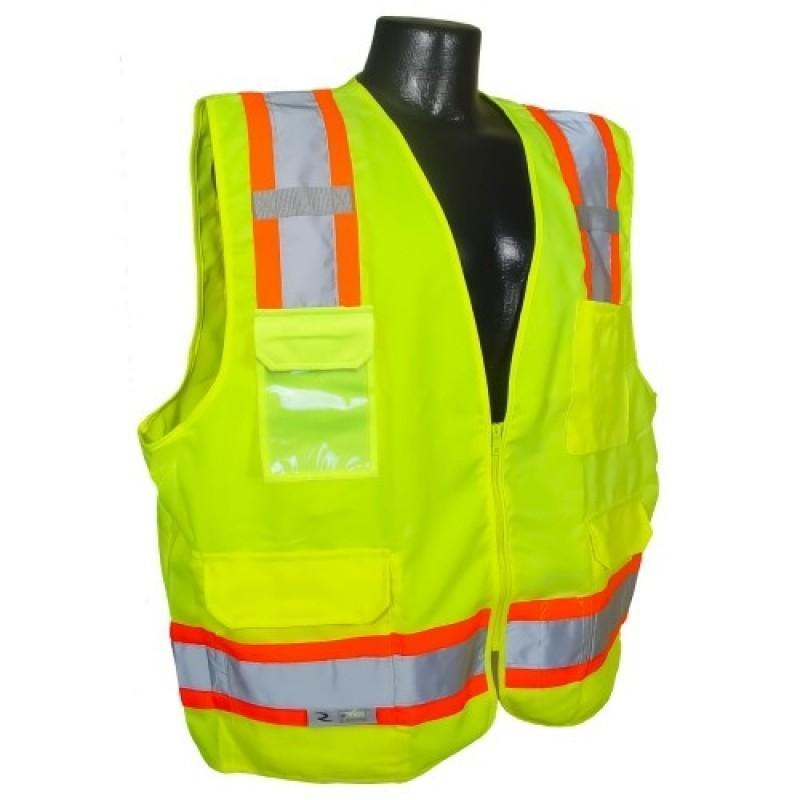vest: (135, 61, 661, 783)
